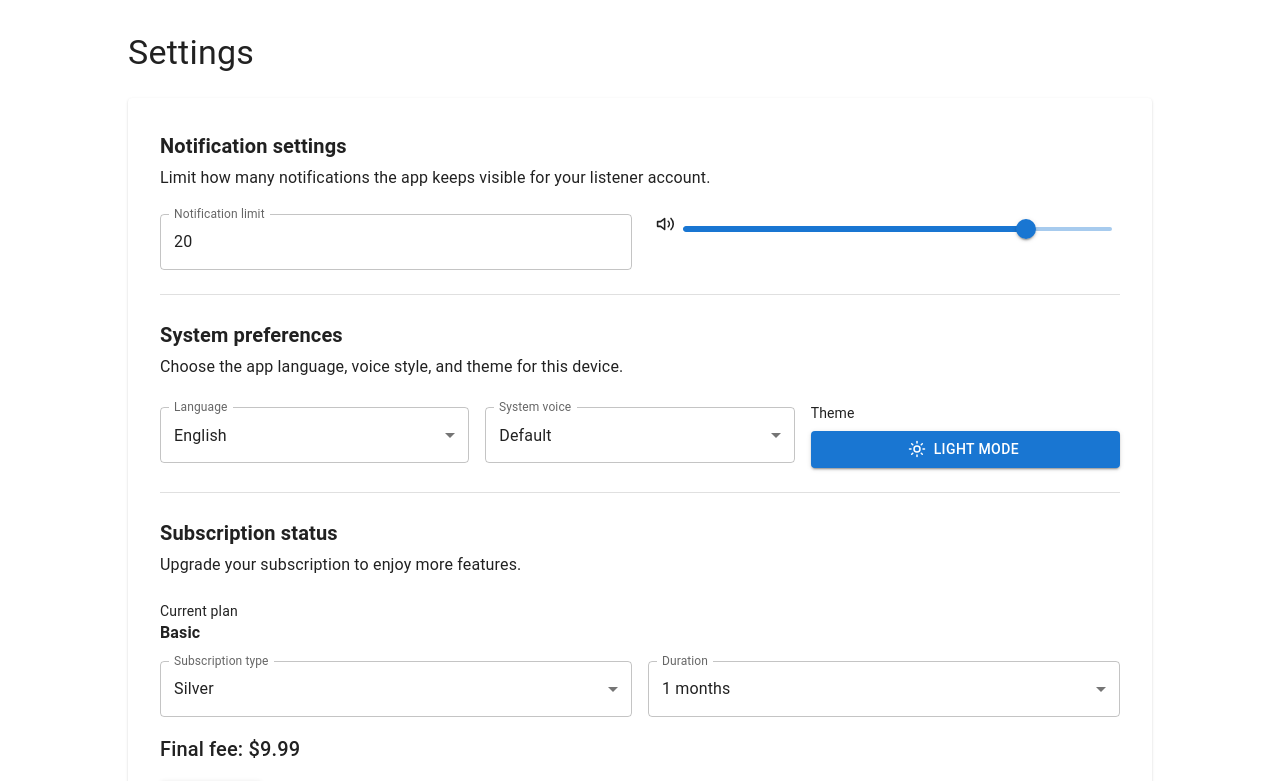
Test: SettingsPage › switches settings labels to Persian from the language preference
The image size is (1280, 781).
Step 1. Click the dropdown named "language" → (200, 435), box [174,426,227,445]
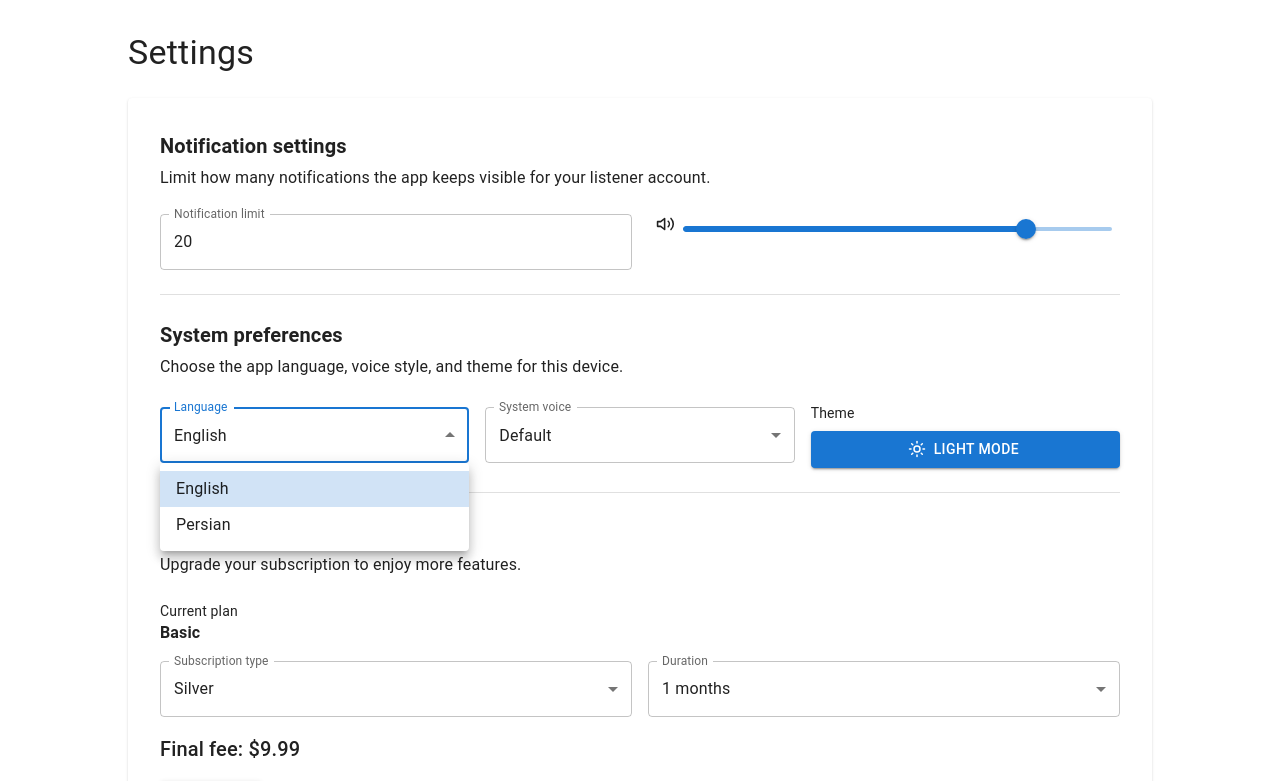
Step 2. Click the option "Persian" → (203, 524), box [176,515,231,534]
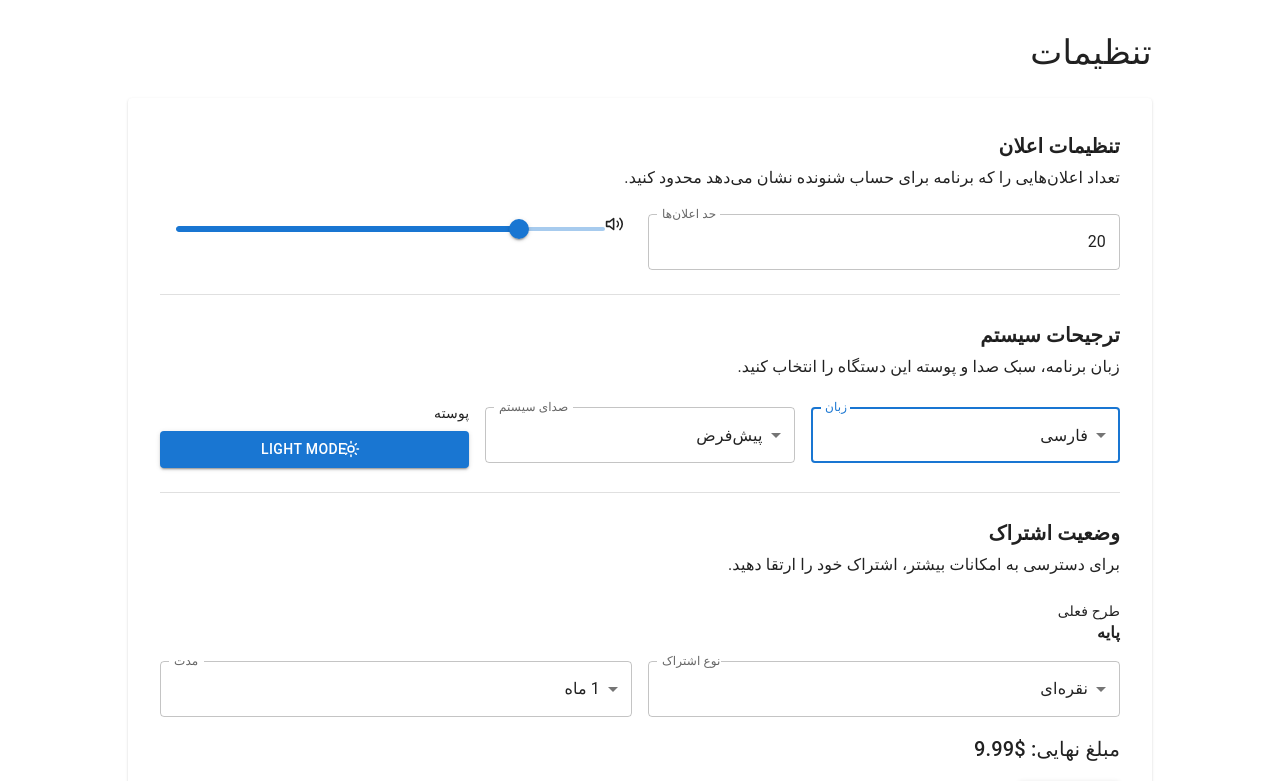
Result: the heading "تنظیمات اعلان" is shown at [999,134,1120,158]
Result: the heading "ترجیحات سیستم" is shown at [980,323,1120,347]
